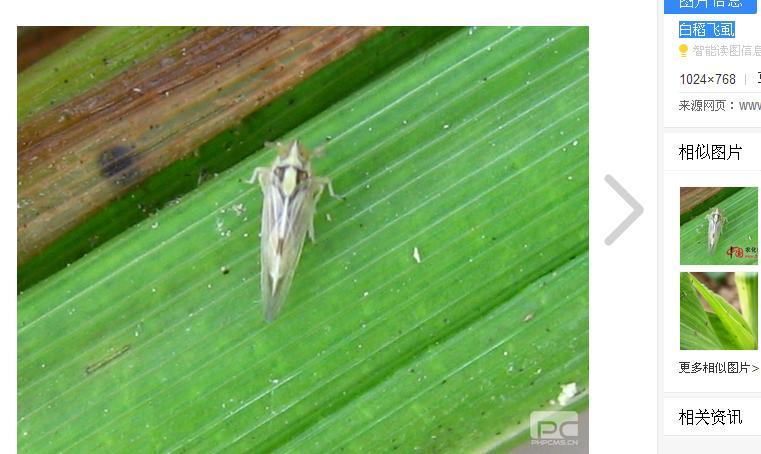Delphacidae: (242, 140, 347, 322)
